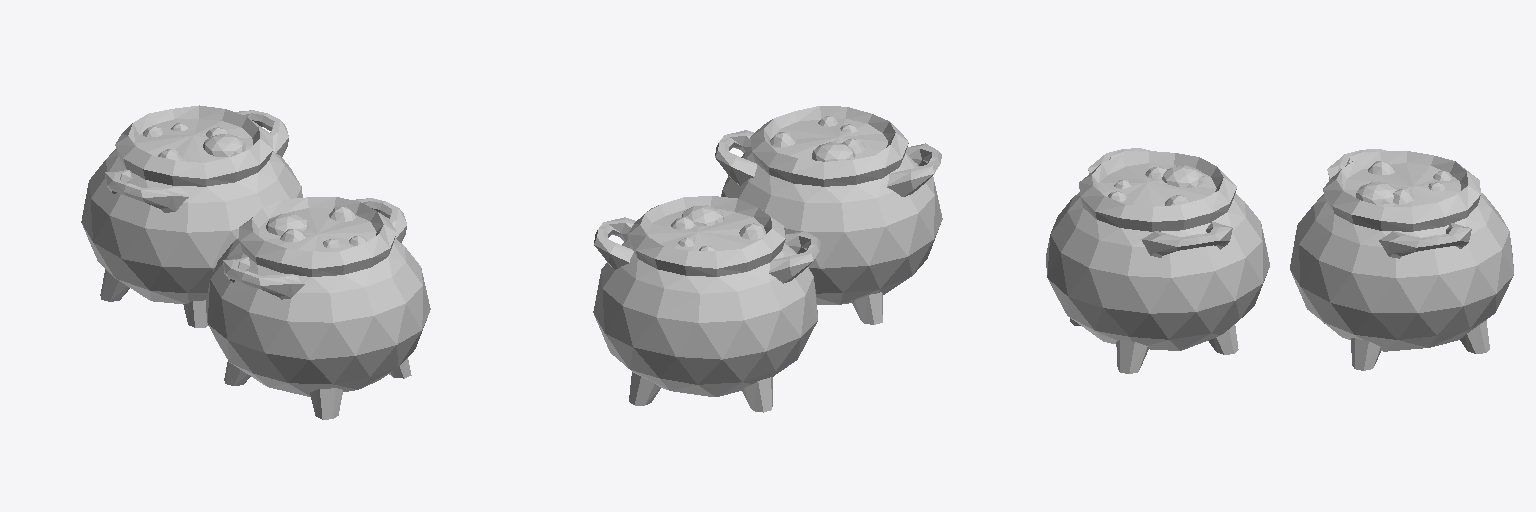
Rendered from witch_cauldron.obj.
3 views of the same model, side by side, from view 1: azimuth 30°, elevation 25°; view 2: azimuth 150°, elevation 25°; view 3: azimuth 270°, elevation 25° (orthographic).
Visible parts, largest first — view 1: witch_cauldron; view 2: witch_cauldron; view 3: witch_cauldron.
Part boxes in pixels (bbox=[...]): witch_cauldron: bbox=[81, 105, 430, 419]; witch_cauldron: bbox=[593, 106, 942, 412]; witch_cauldron: bbox=[1046, 148, 1513, 373].
Bounding box in the file's own units: 175 × 135 × 361.